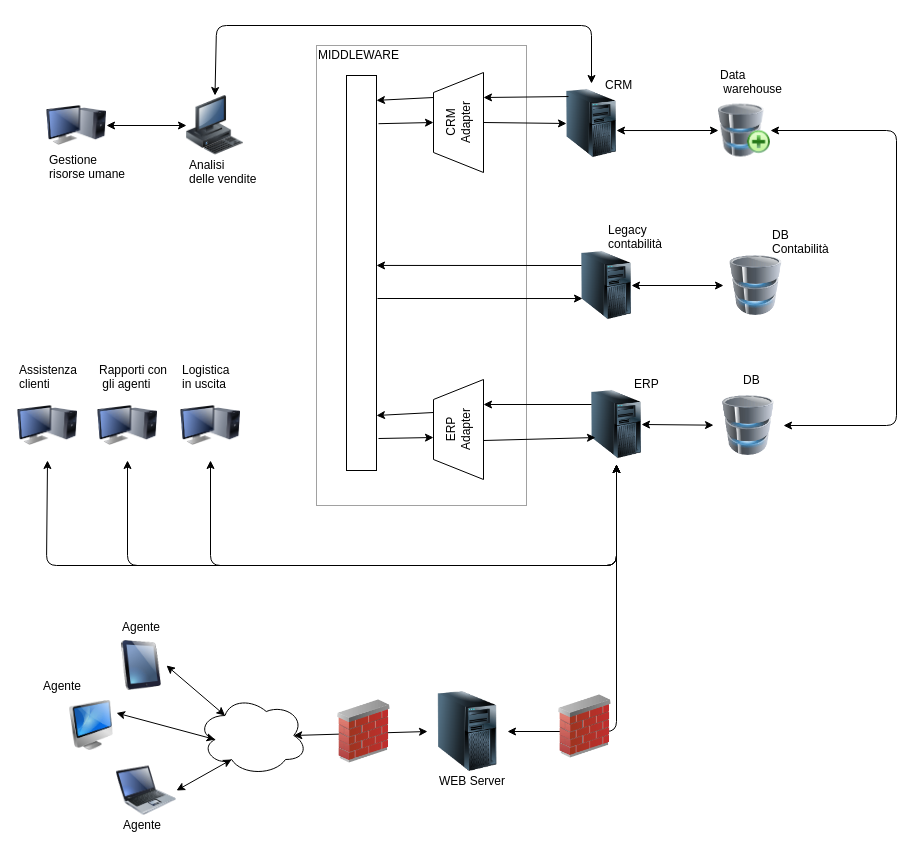
This 923x853 diagram has some shape labels left out. Each missing label, with the centre of its shape:
"Internet" goes at [252,735].
"Message Broker" goes at [361,272].
